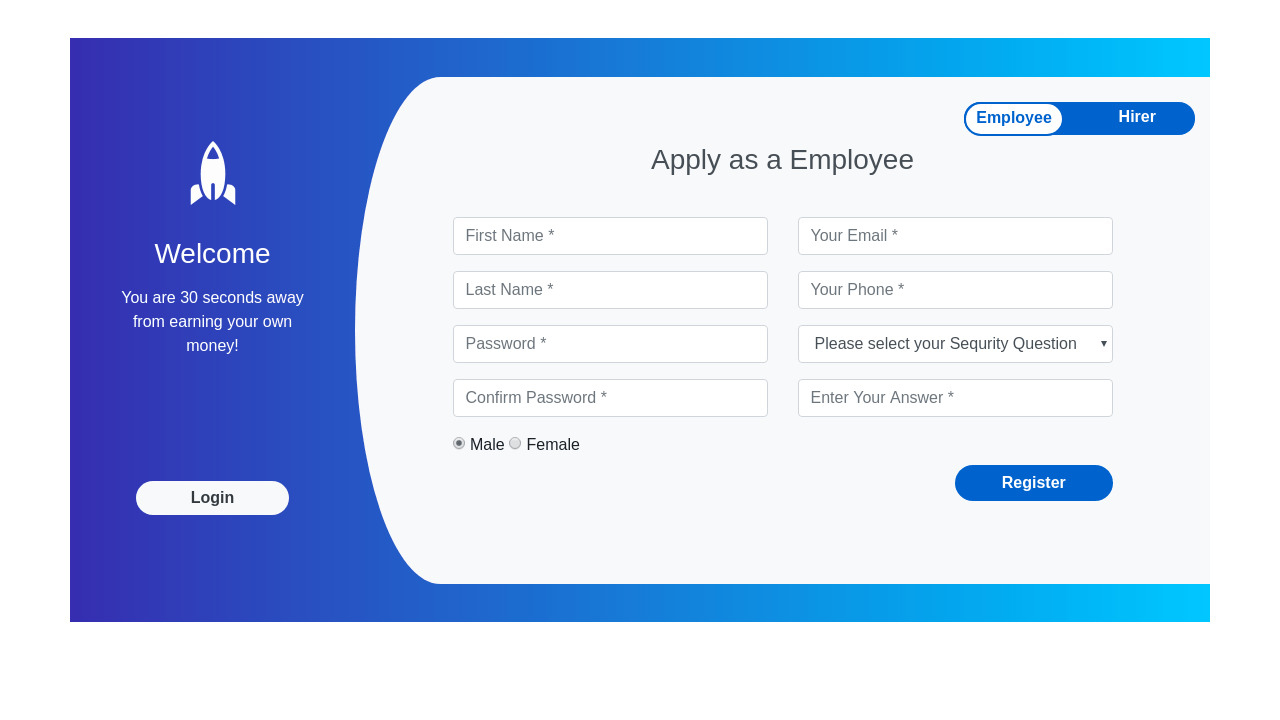button: (953, 462, 1115, 506), (132, 477, 293, 518)
field: (449, 214, 770, 259), (449, 268, 768, 312), (797, 215, 1115, 257), (795, 268, 1114, 309), (451, 324, 768, 365), (449, 377, 770, 416), (797, 378, 1114, 417)
radio: (510, 432, 528, 455), (450, 434, 469, 454)
select: (795, 321, 1113, 364)
